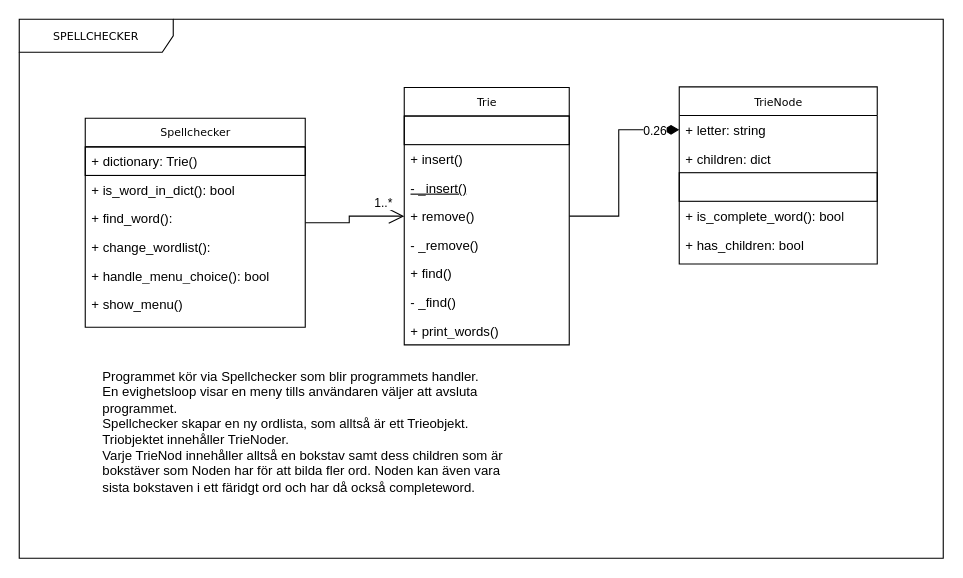
Image size: 963x578. Some labels were removed from this diagram. Each missing label, with the centre of its shape:
+ completeword: bool: point 777,186
+ root: string: point 486,130
